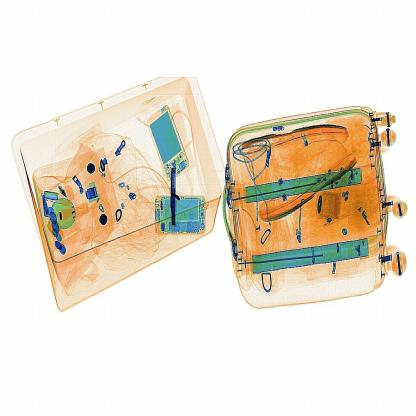pliers: (169, 162, 182, 229)
